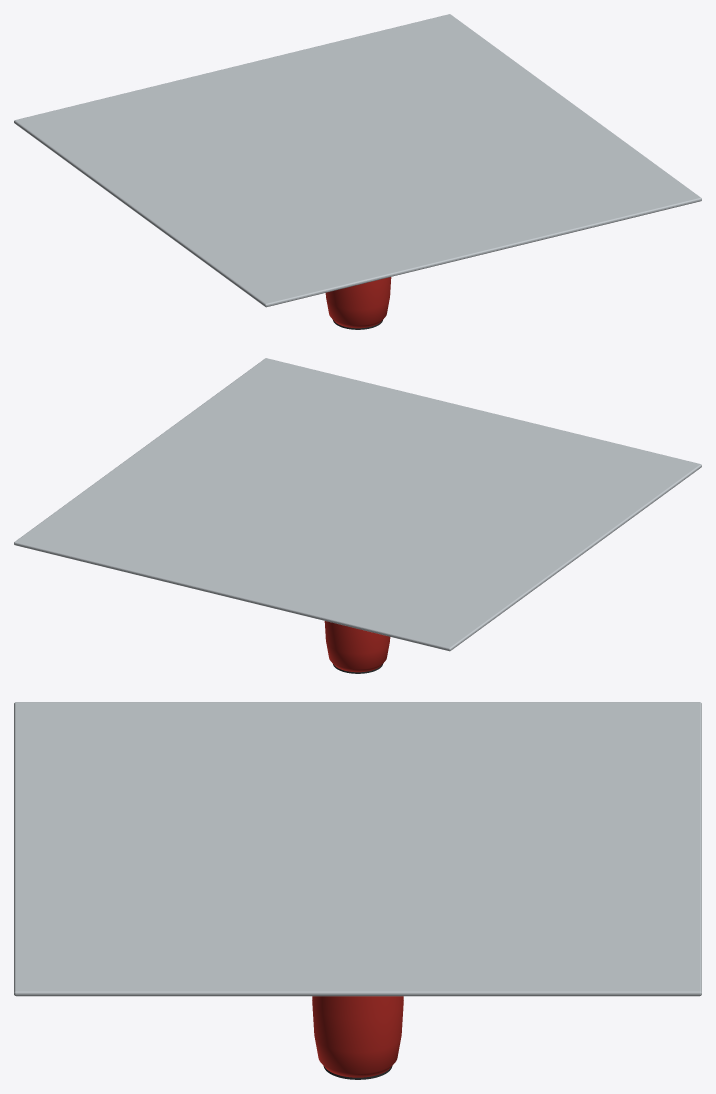
File: A-NEW-20261026-PLASTER-HAWK-001_LOD0_R1.glb
3 views of the same model, one above another, from view 1: azimuth 30°, elevation 25°; view 2: azimuth 150°, elevation 25°; view 3: azimuth 270°, elevation 25° (orthographic). The views are drawn at different scales.
Parts seen in each view (by area): view 1: thin square aluminum hawk plate, open ended red grip wall; view 2: thin square aluminum hawk plate, open ended red grip wall; view 3: thin square aluminum hawk plate, open ended red grip wall.
Part boxes in pixels (bbox=[...]): thin square aluminum hawk plate: bbox=[14, 14, 701, 307]; open ended red grip wall: bbox=[325, 277, 391, 328]; thin square aluminum hawk plate: bbox=[14, 358, 701, 651]; open ended red grip wall: bbox=[324, 621, 390, 672]; thin square aluminum hawk plate: bbox=[14, 702, 701, 996]; open ended red grip wall: bbox=[312, 996, 403, 1077].
Bounding box in the file's own units: 0.3302 × 0.1158 × 0.3302.
